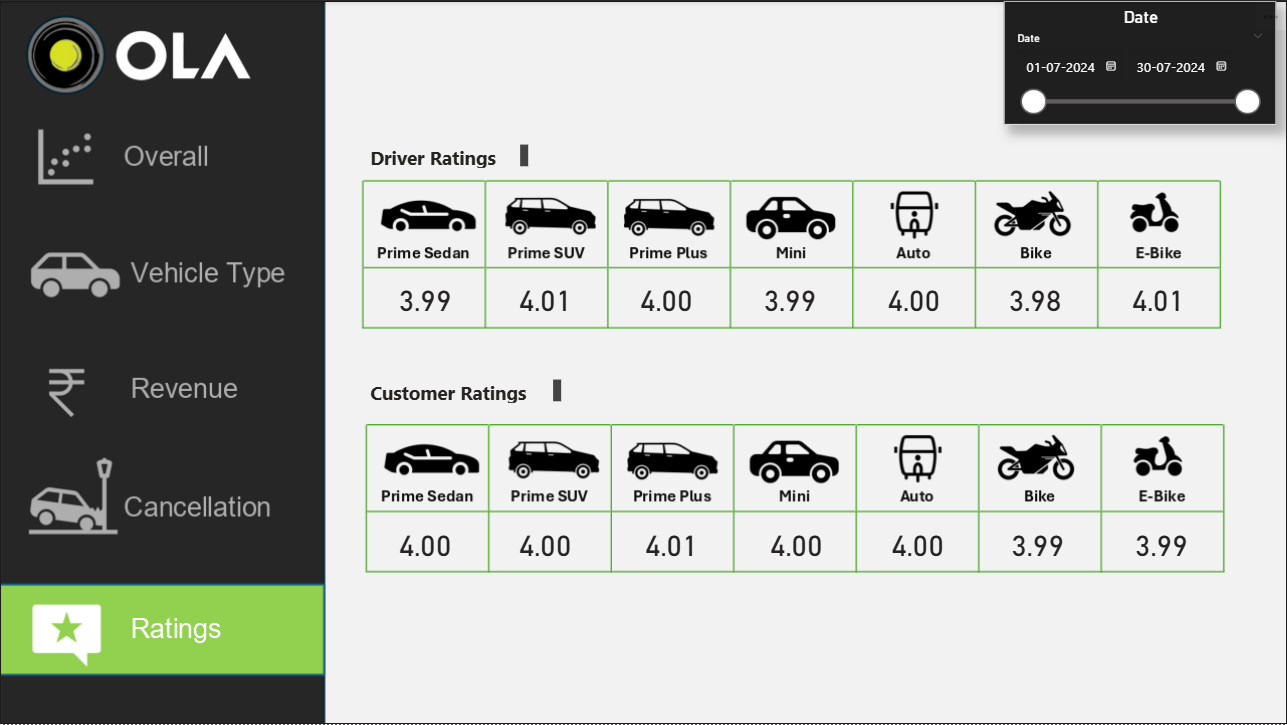

What the dashboard file says about the page in this screenshot:
{"tool":"powerbi","page":{"name":"rating","canvas":[1280,720],"ordinal":4},"visuals":[{"type":"image","box":[0,0,1280,720.3],"z":0},{"type":"actionButton","box":[0,220.9,322.7,90.8],"z":1000},{"type":"actionButton","box":[0,342.1,322.2,90.8],"z":2000},{"type":"actionButton","box":[0,449.1,322.7,92],"z":3000},{"type":"actionButton","box":[0,115.7,322.2,78.4],"z":4000},{"type":"card","fields":{"Values":["Avg(July.Driver_Ratings)"]},"box":[362.9,265.7,120,60],"z":5000},{"type":"card","fields":{"Values":["Avg(July.Driver_Ratings)"]},"box":[482.9,265.7,120,60],"z":6000},{"type":"card","fields":{"Values":["Avg(July.Driver_Ratings)"]},"box":[602.9,265.7,120,60],"z":7000},{"type":"card","fields":{"Values":["Avg(July.Driver_Ratings)"]},"box":[722.9,265.7,127.1,60],"z":8000},{"type":"card","fields":{"Values":["Avg(July.Driver_Ratings)"]},"box":[850,265.7,120,60],"z":9000},{"type":"card","fields":{"Values":["Avg(July.Driver_Ratings)"]},"box":[970,265.7,120,60],"z":10000},{"type":"card","fields":{"Values":["Avg(July.Driver_Ratings)"]},"box":[1090,265.7,125.7,60],"z":11000},{"type":"textbox","box":[362.9,138.6,167.1,32.9],"z":12000},{"type":"textbox","box":[362.9,371.4,200,32.9],"z":13000},{"type":"card","fields":{"Values":["Avg(July.Customer_Rating)"]},"box":[362.9,510,120,60],"z":14000},{"type":"card","fields":{"Values":["Avg(July.Customer_Rating)"]},"box":[482.9,510,120,60],"z":15000},{"type":"card","fields":{"Values":["Avg(July.Customer_Rating)"]},"box":[602.9,510,130,60],"z":16000},{"type":"card","fields":{"Values":["Avg(July.Customer_Rating)"]},"box":[732.9,510,120,60],"z":17000},{"type":"card","fields":{"Values":["Avg(July.Customer_Rating)"]},"box":[852.9,510,120,60],"z":18000},{"type":"card","fields":{"Values":["Avg(July.Customer_Rating)"]},"box":[972.9,510,120,60],"z":19000},{"type":"card","fields":{"Values":["Avg(July.Customer_Rating)"]},"box":[1095.7,510,120,60],"z":20000},{"type":"slicer","title":"Date","fields":{"Values":["July.Date"]},"box":[998.6,0,271.4,122.9],"z":21000}]}

Visuals, with their boxes in screenshot pixels (x1, y1, x2, y2), scaled from the page's 1280x720 canvas onto the 1287x725 screenshot:
image: bbox=(0, 0, 1286, 724)
actionButton: bbox=(0, 222, 324, 314)
actionButton: bbox=(0, 344, 324, 436)
actionButton: bbox=(0, 452, 324, 545)
actionButton: bbox=(0, 117, 324, 195)
card - Avg(July.Driver_Ratings): bbox=(365, 268, 486, 328)
card - Avg(July.Driver_Ratings): bbox=(486, 268, 606, 328)
card - Avg(July.Driver_Ratings): bbox=(606, 268, 727, 328)
card - Avg(July.Driver_Ratings): bbox=(727, 268, 855, 328)
card - Avg(July.Driver_Ratings): bbox=(855, 268, 975, 328)
card - Avg(July.Driver_Ratings): bbox=(975, 268, 1096, 328)
card - Avg(July.Driver_Ratings): bbox=(1096, 268, 1222, 328)
textbox: bbox=(365, 140, 533, 173)
textbox: bbox=(365, 374, 566, 407)
card - Avg(July.Customer_Rating): bbox=(365, 514, 486, 574)
card - Avg(July.Customer_Rating): bbox=(486, 514, 606, 574)
card - Avg(July.Customer_Rating): bbox=(606, 514, 737, 574)
card - Avg(July.Customer_Rating): bbox=(737, 514, 858, 574)
card - Avg(July.Customer_Rating): bbox=(858, 514, 978, 574)
card - Avg(July.Customer_Rating): bbox=(978, 514, 1099, 574)
card - Avg(July.Customer_Rating): bbox=(1102, 514, 1222, 574)
"Date" slicer: bbox=(1004, 0, 1277, 124)
